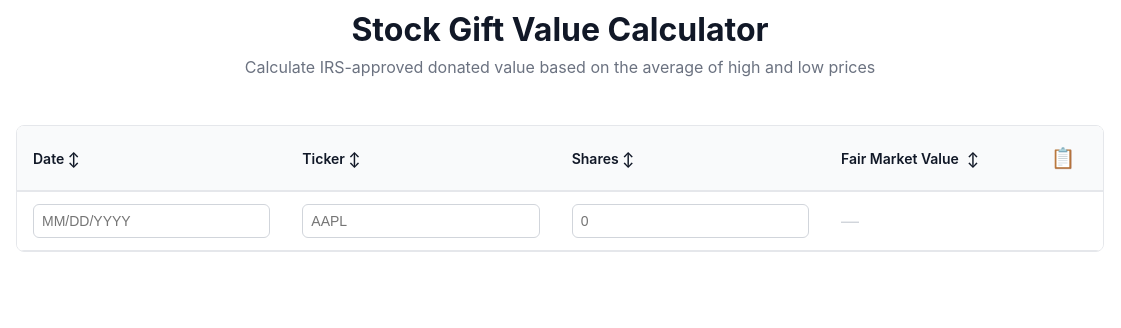
Test case: StockGiftCalculator - Error Handling › should show error for invalid ticker
Type "2024-01-01" into the field named "date".
click(152, 221); type("2024-01-01")  # box [33,204,270,238]
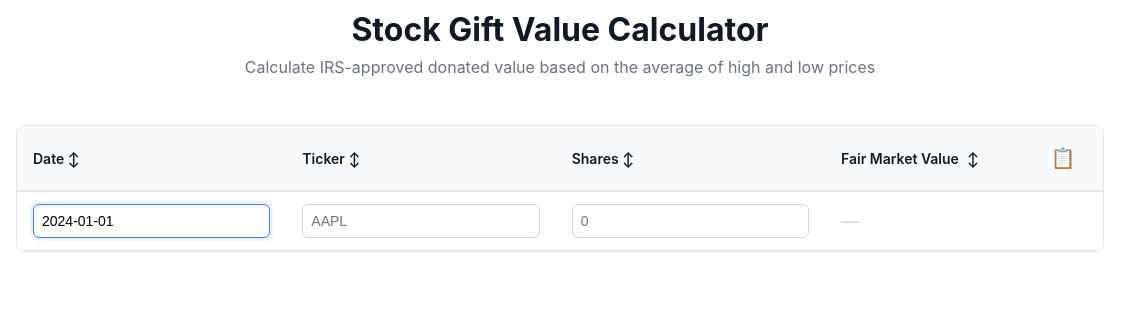
Type "INVALID123" into the field named "ticker".
click(421, 221); type("INVALID123")  # box [302,204,540,238]
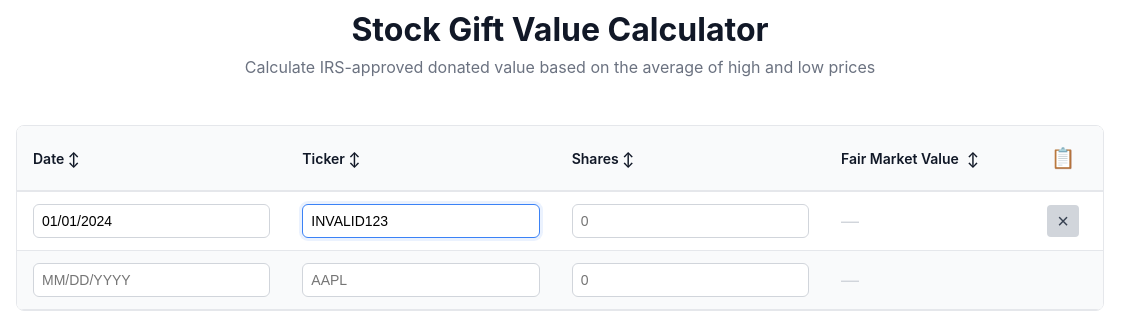
Click the number field named "shares".
click(690, 221)  # box [572,204,809,238]
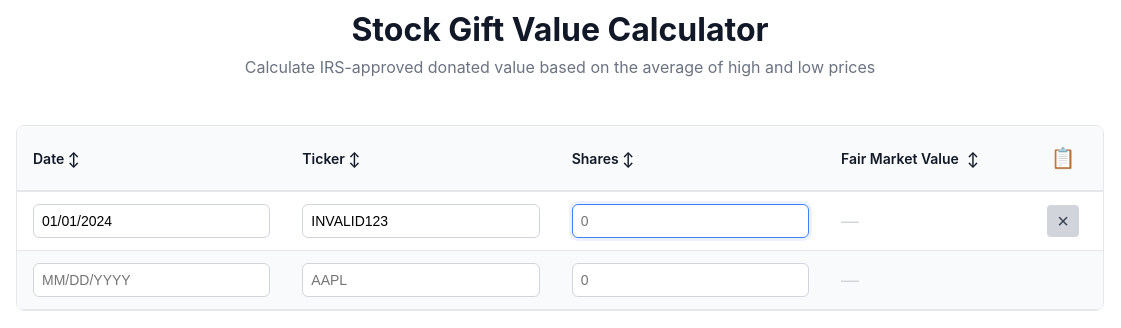
Type keys "{Backspace}10"
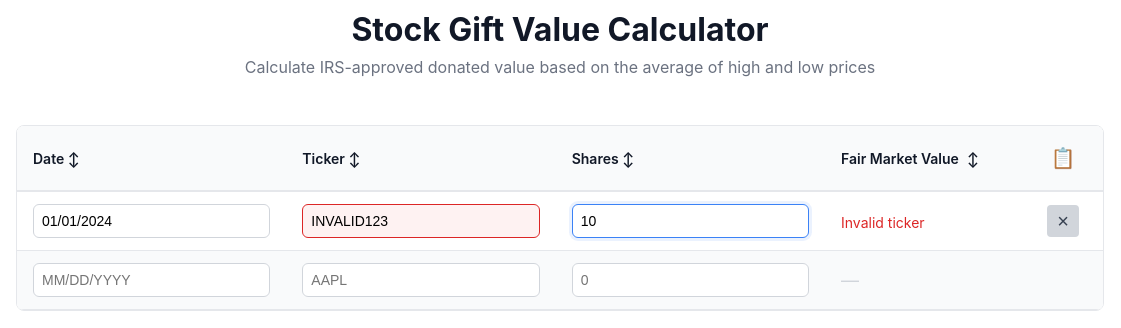
Check: the text "Invalid ticker" is shown, box [841,214,925,230]
